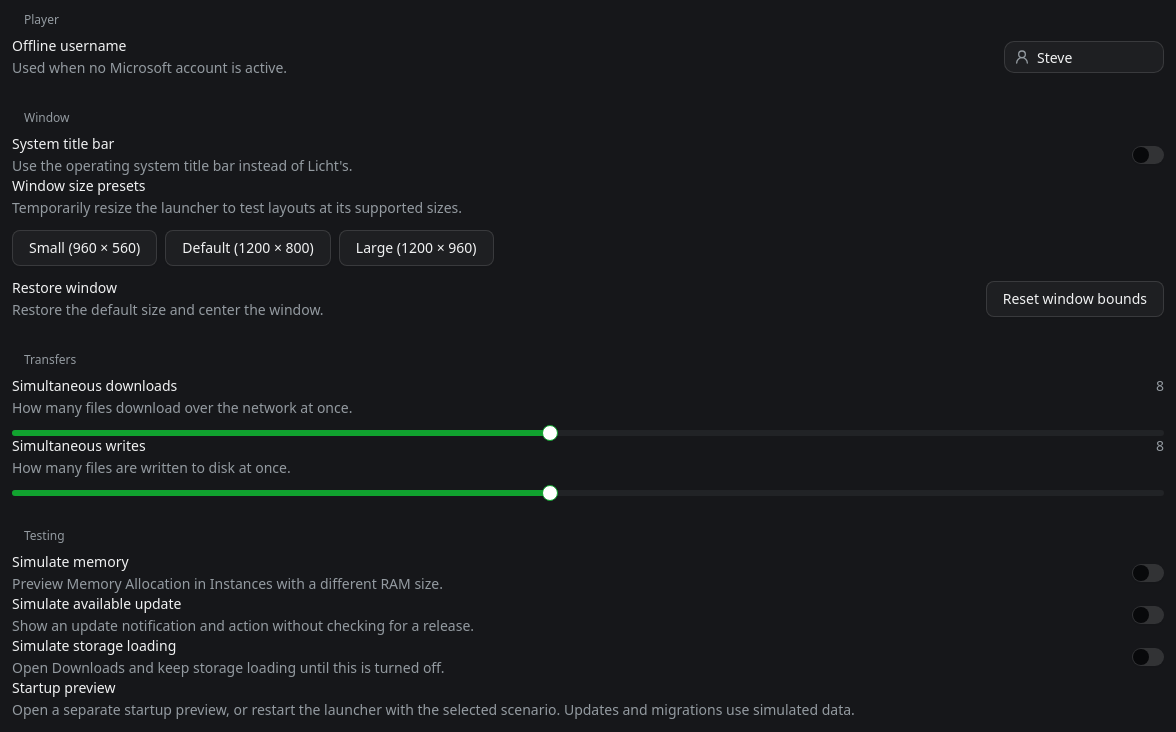
Test: DevelopersSection › shows window preview errors and allows retrying
This screenshot has width=1176, height=732.
Click the button "Large (1200 × 960)" at (416, 248), box top-left (339, 230), bottom-right (494, 266)
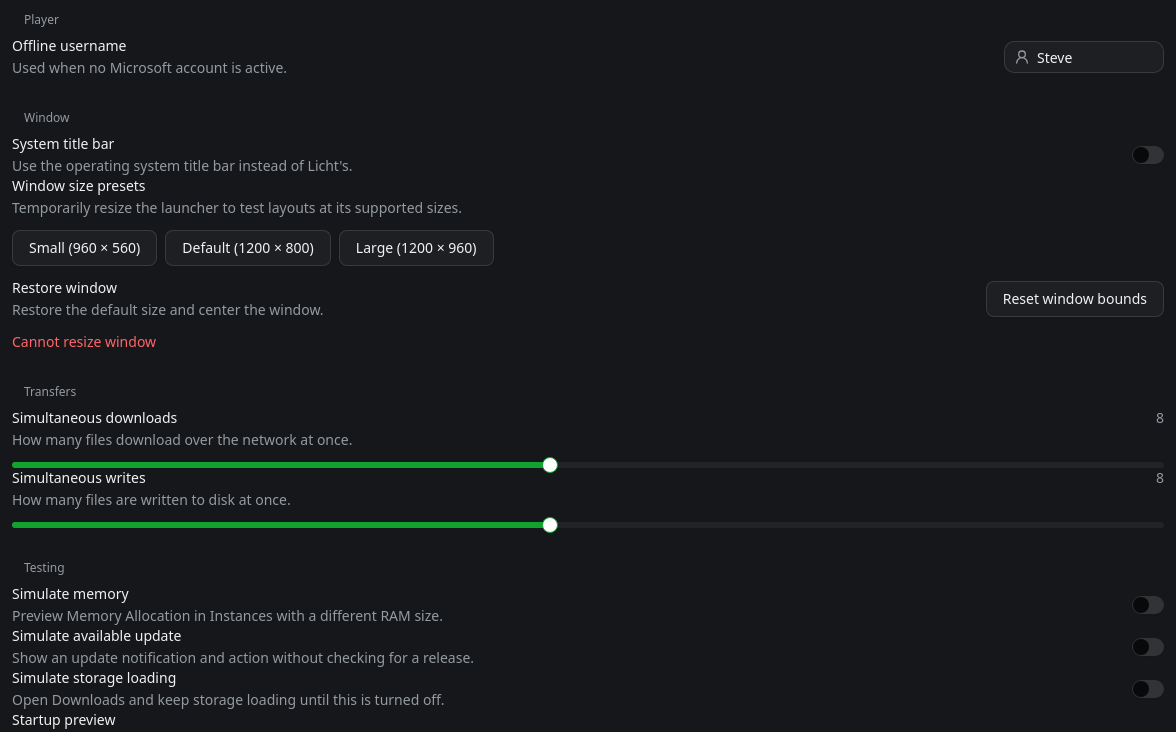
Expected: the button "Reset window bounds" is enabled, top-left (986, 281), bottom-right (1164, 317)
Now the message reads "Cannot resize window", box top-left (12, 332), bottom-right (156, 351)
Click the button "Large (1200 × 960)" at (416, 248), box top-left (339, 230), bottom-right (494, 266)
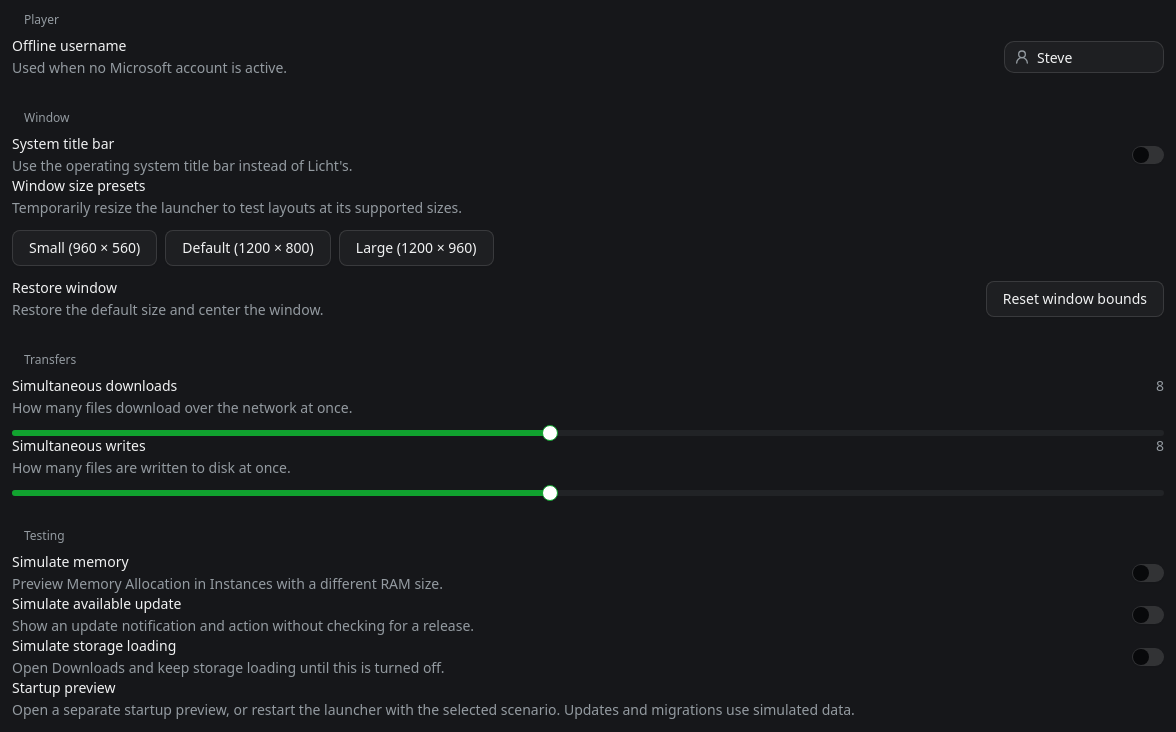
Now the message "Cannot resize window" is gone
